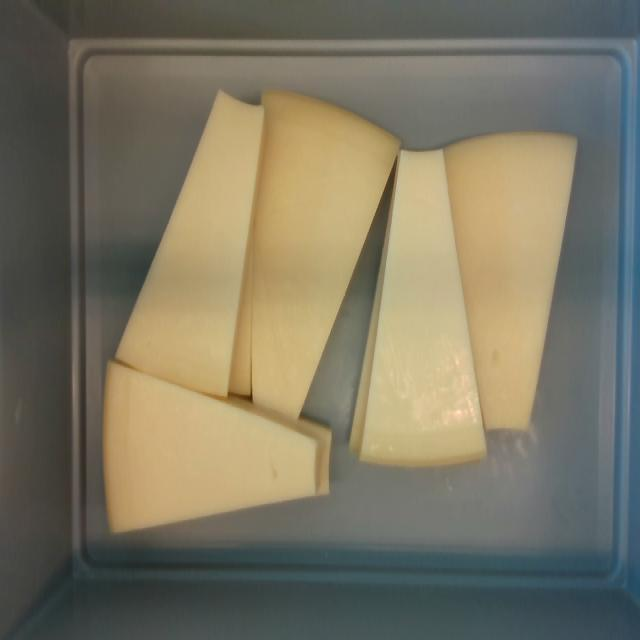Cheese: (252, 91, 397, 421), (115, 89, 265, 398), (442, 133, 578, 430), (359, 151, 486, 467), (102, 364, 315, 537)
